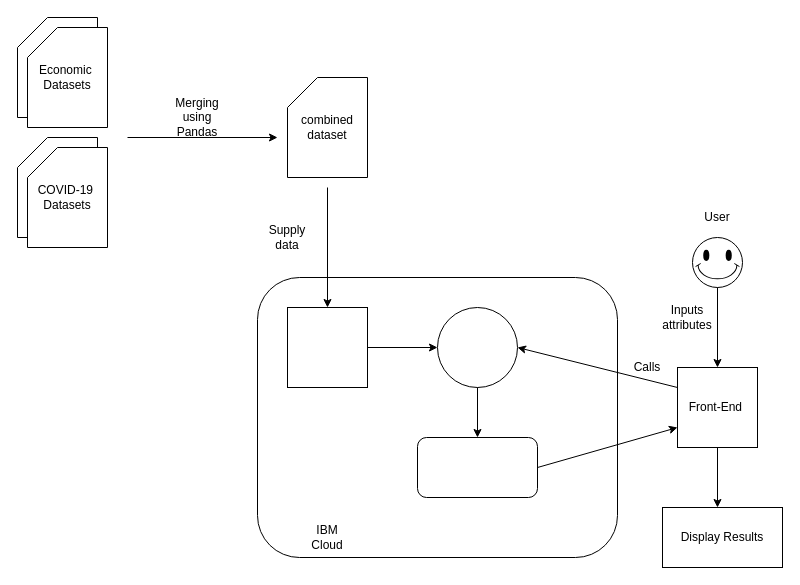
The diagram is 800 pixels wide and 585 high, and some of its shapes have lost their labels. The shapes that lost their labels are listed below. From the top down, each one's centre as x and y in pixels, then its label:
At point 327,347: "IBM Watson Machine Learning".
At point 477,347: "Model".
At point 477,467: "Prediction".
